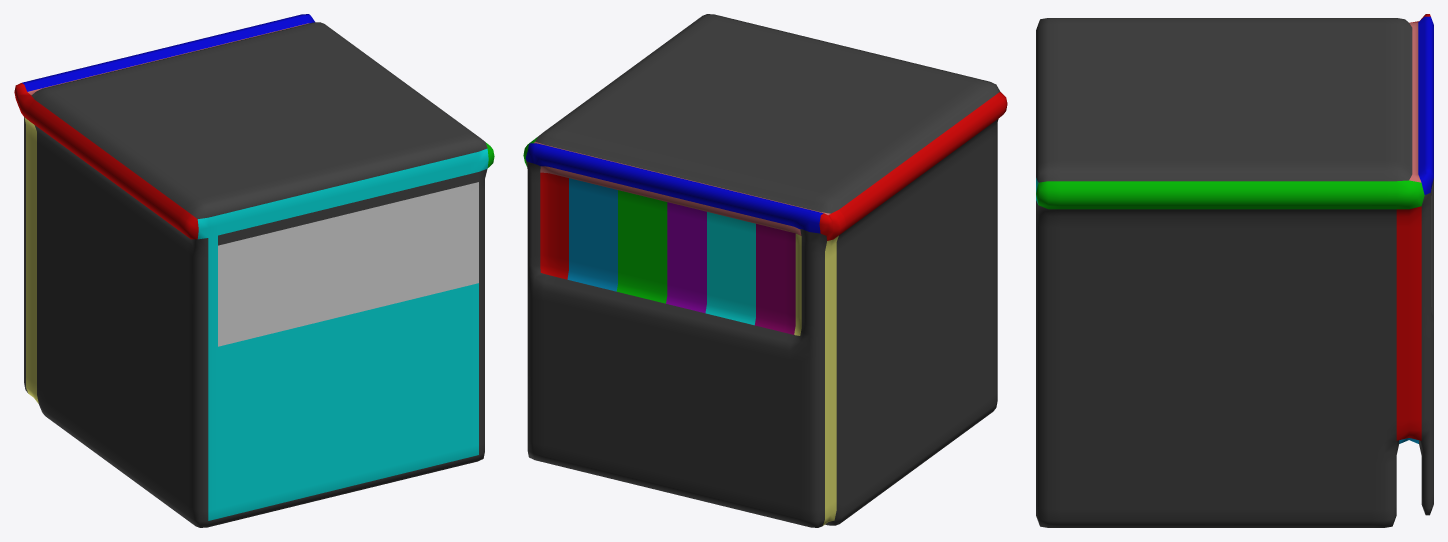
3 renders of one model, left to right at view 1: azimuth 30°, elevation 25°; view 2: azimuth 150°, elevation 25°; view 3: azimuth 270°, elevation 25°, orthographic. The views are drawn at different scales.
Bounding box in the file's own units: 1.6 × 1.6 × 1.6.
